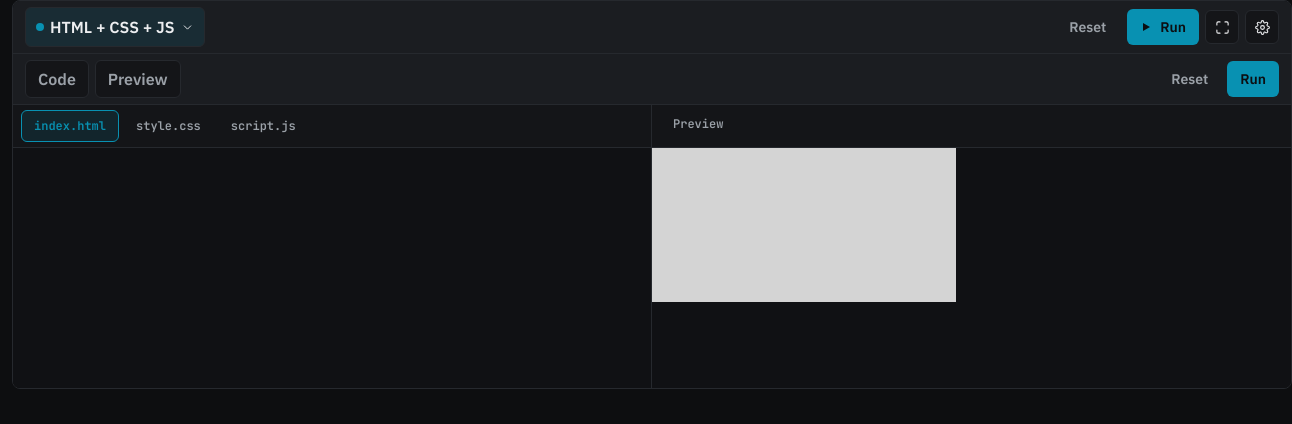
it: Workbench render probe — is the code visible? › picking a language shows the code in the editor area
# Open the language menu and pick Java.
Click the button with aria-label "Language: ": (115, 27) [25,7,205,47]
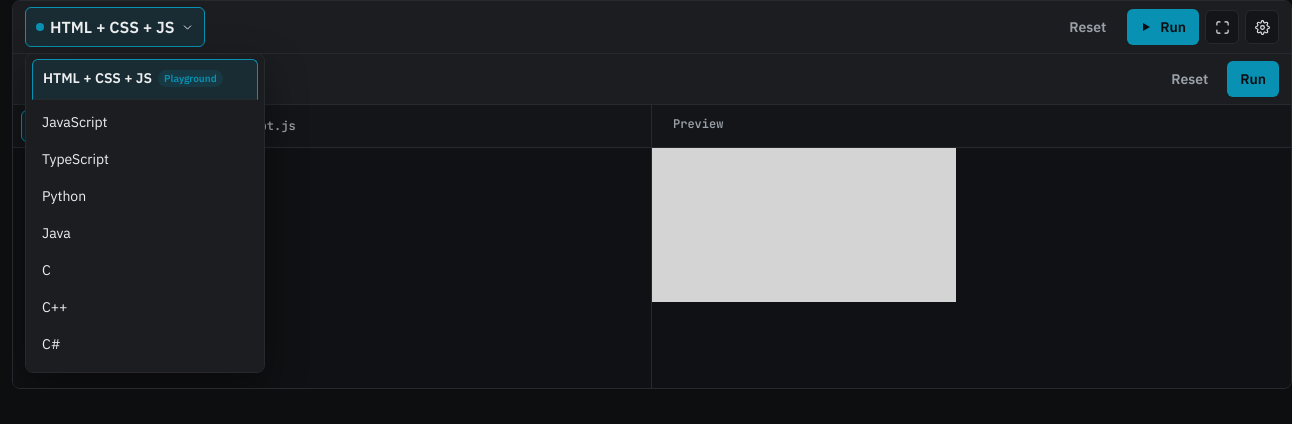
Click the menu item "Java": (145, 234) [32,215,258,252]
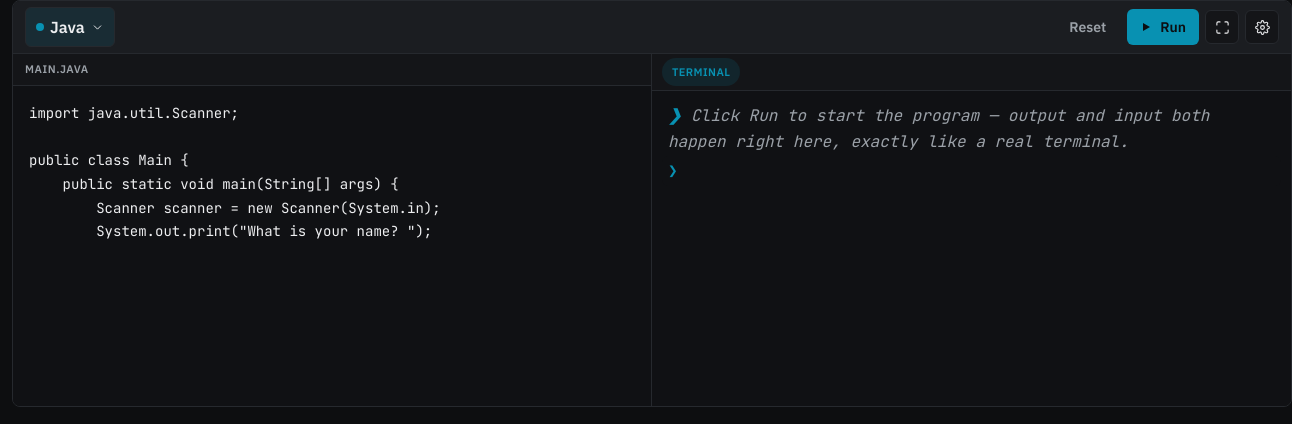
Expected: the text box named "Code editor (plain text fallback while the editor loads)" is shown, [13,86,651,246]
Result: the element with class "workbench-editor-host" is shown at [13,86,651,406]
